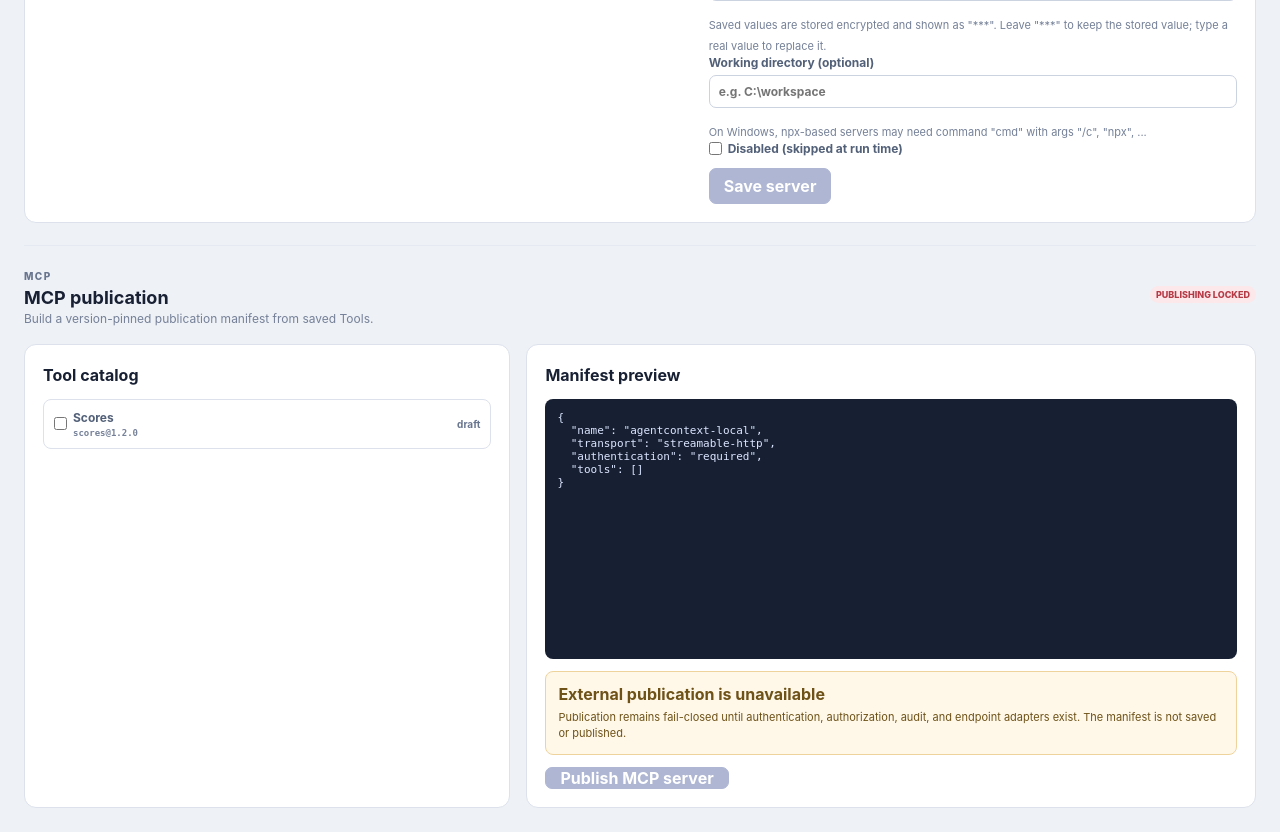
McpPage › 選択Toolの固定versionをmanifest previewへ反映し公開は遮断する
(page scrolled)
Click the checkbox labelled "Scores scores@1.2.0 draft" at (60, 424), box [54,417,67,430]
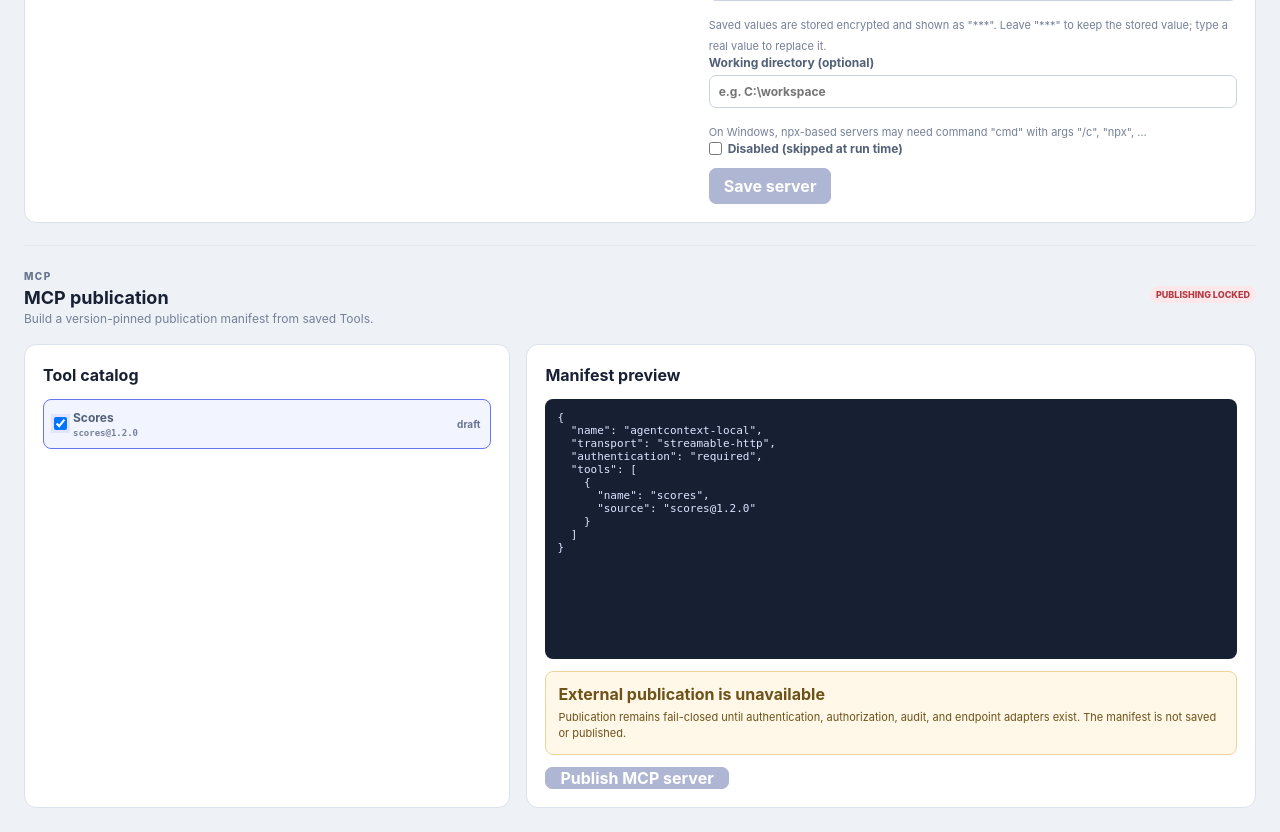
Expected: the button "Publish MCP server" is disabled, [545,767,729,789]
Expected: the text with class "manifest-preview" shows "scores@1.2.0", [557,411,776,554]
